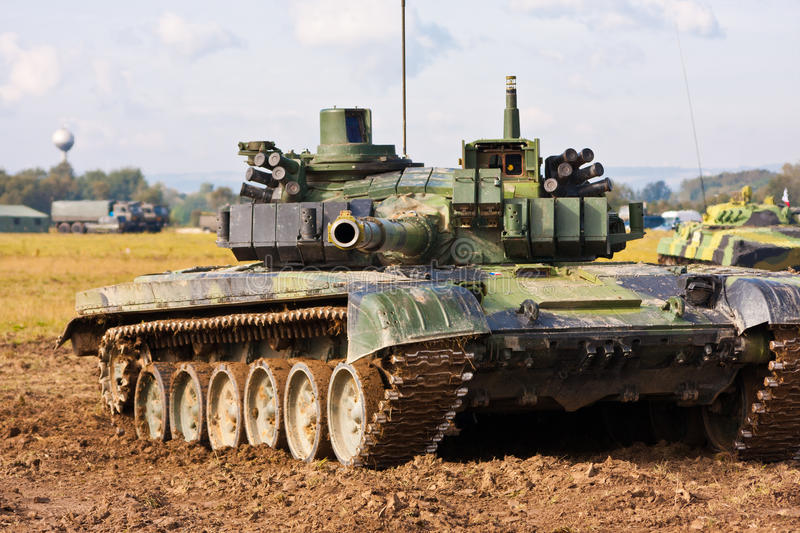t72: (75, 142, 800, 459)
